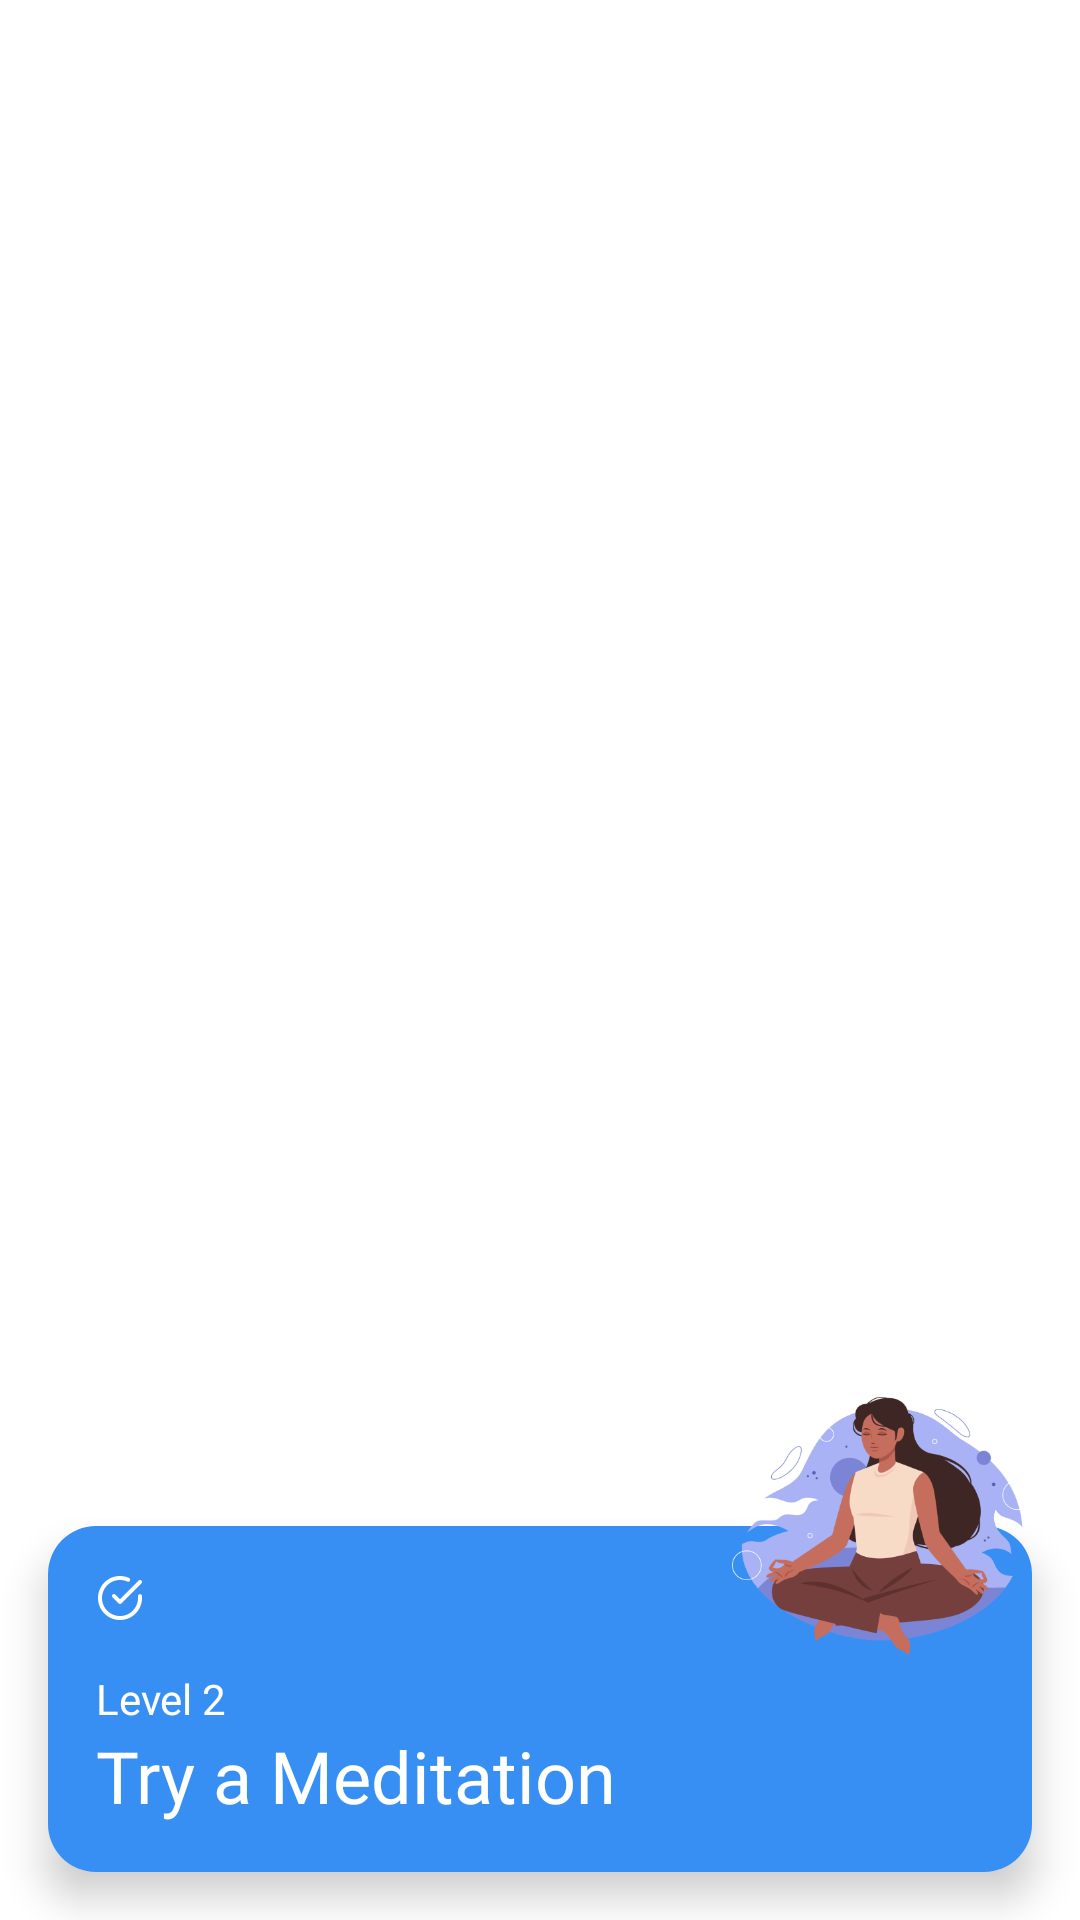

Where icons sit on this 1080px×1920px app screen, as (x1, y1, x2, y2):
check circle: (98, 1576, 142, 1620)
